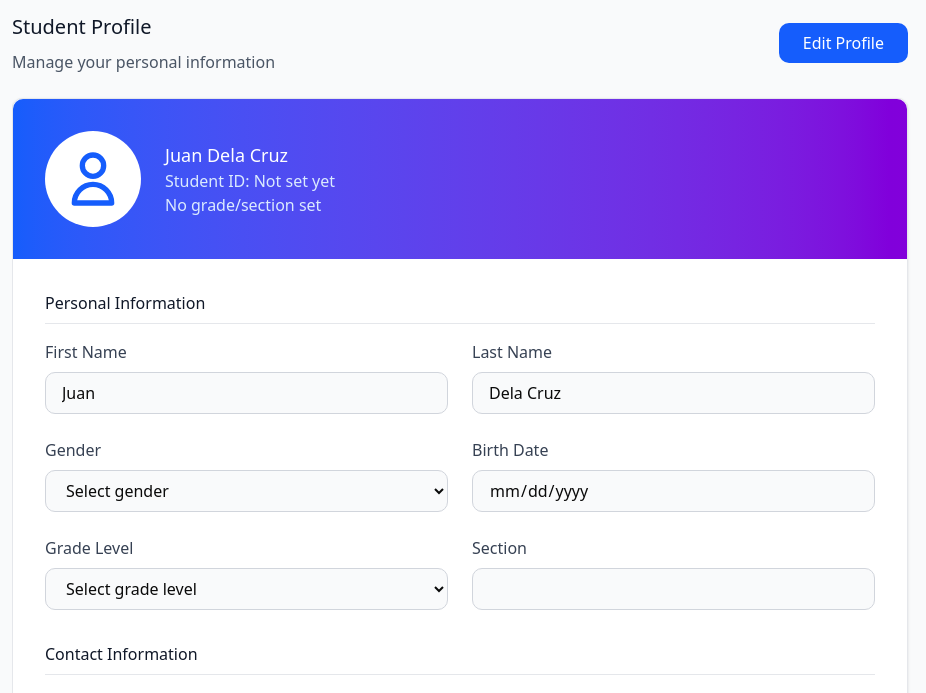
Test case: StudentProfile page › FT-07 / TI-22: shows save error if request fails
This screenshot has width=926, height=693.
Click the button "Edit Profile".
click(843, 43)  # box [779,23,908,63]
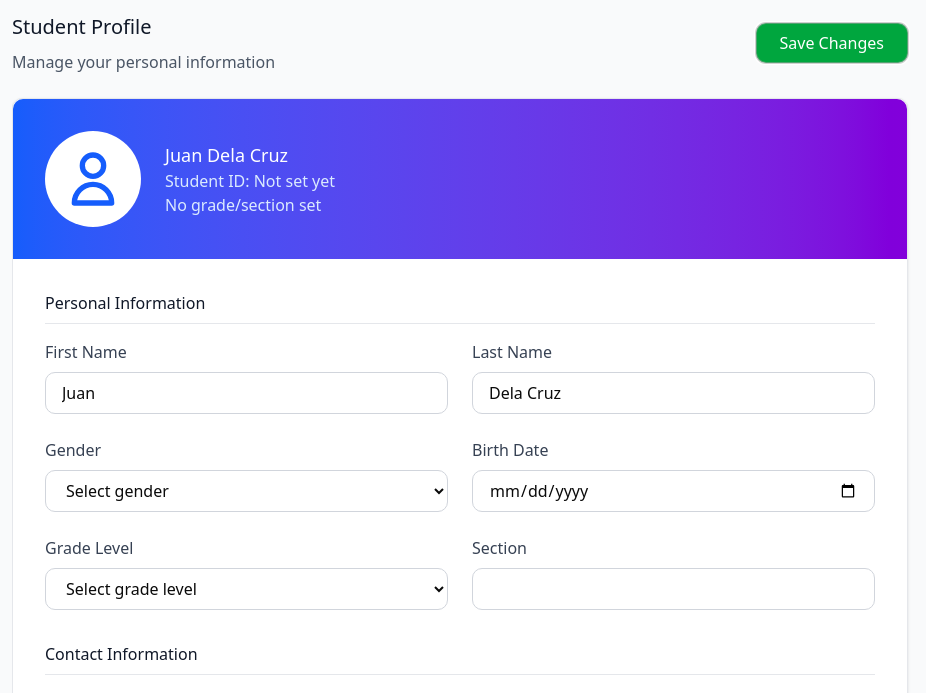
Click the button "Save Changes".
click(832, 43)  # box [756,23,908,63]
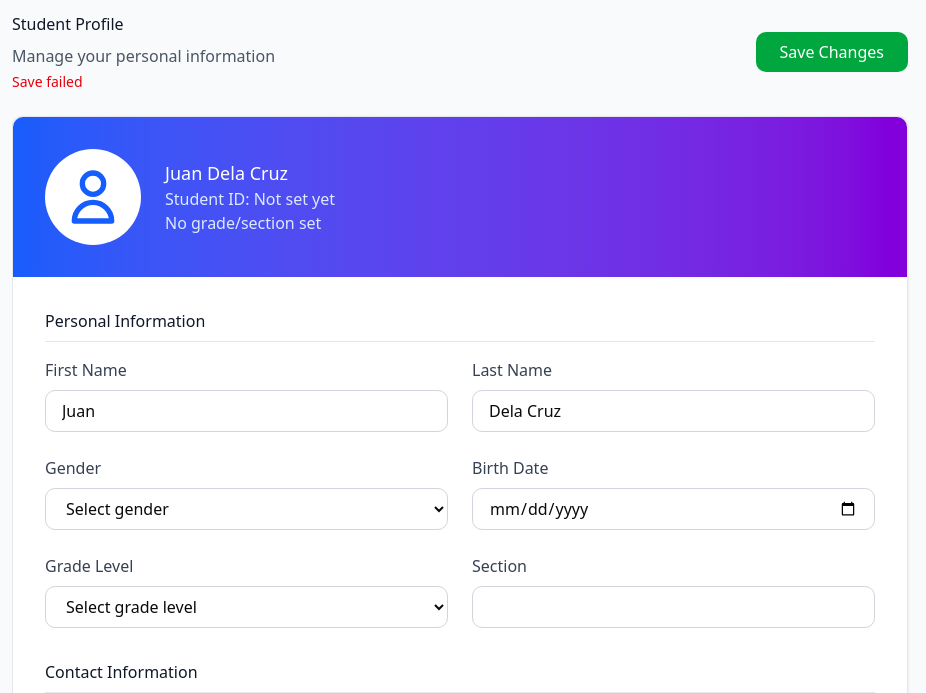
Expected: the text "Save failed" is shown, [12,72,83,91]
